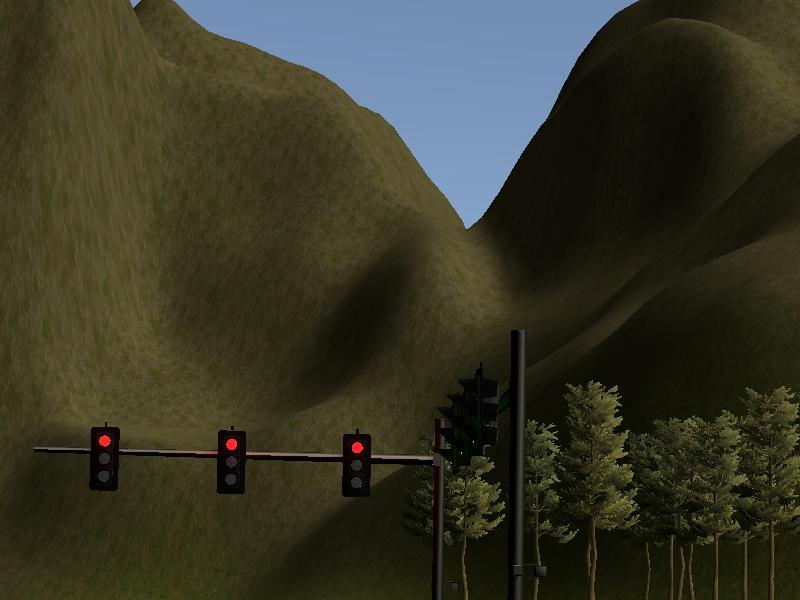Red: (89, 424, 119, 491), (215, 429, 245, 496), (342, 432, 372, 499)
